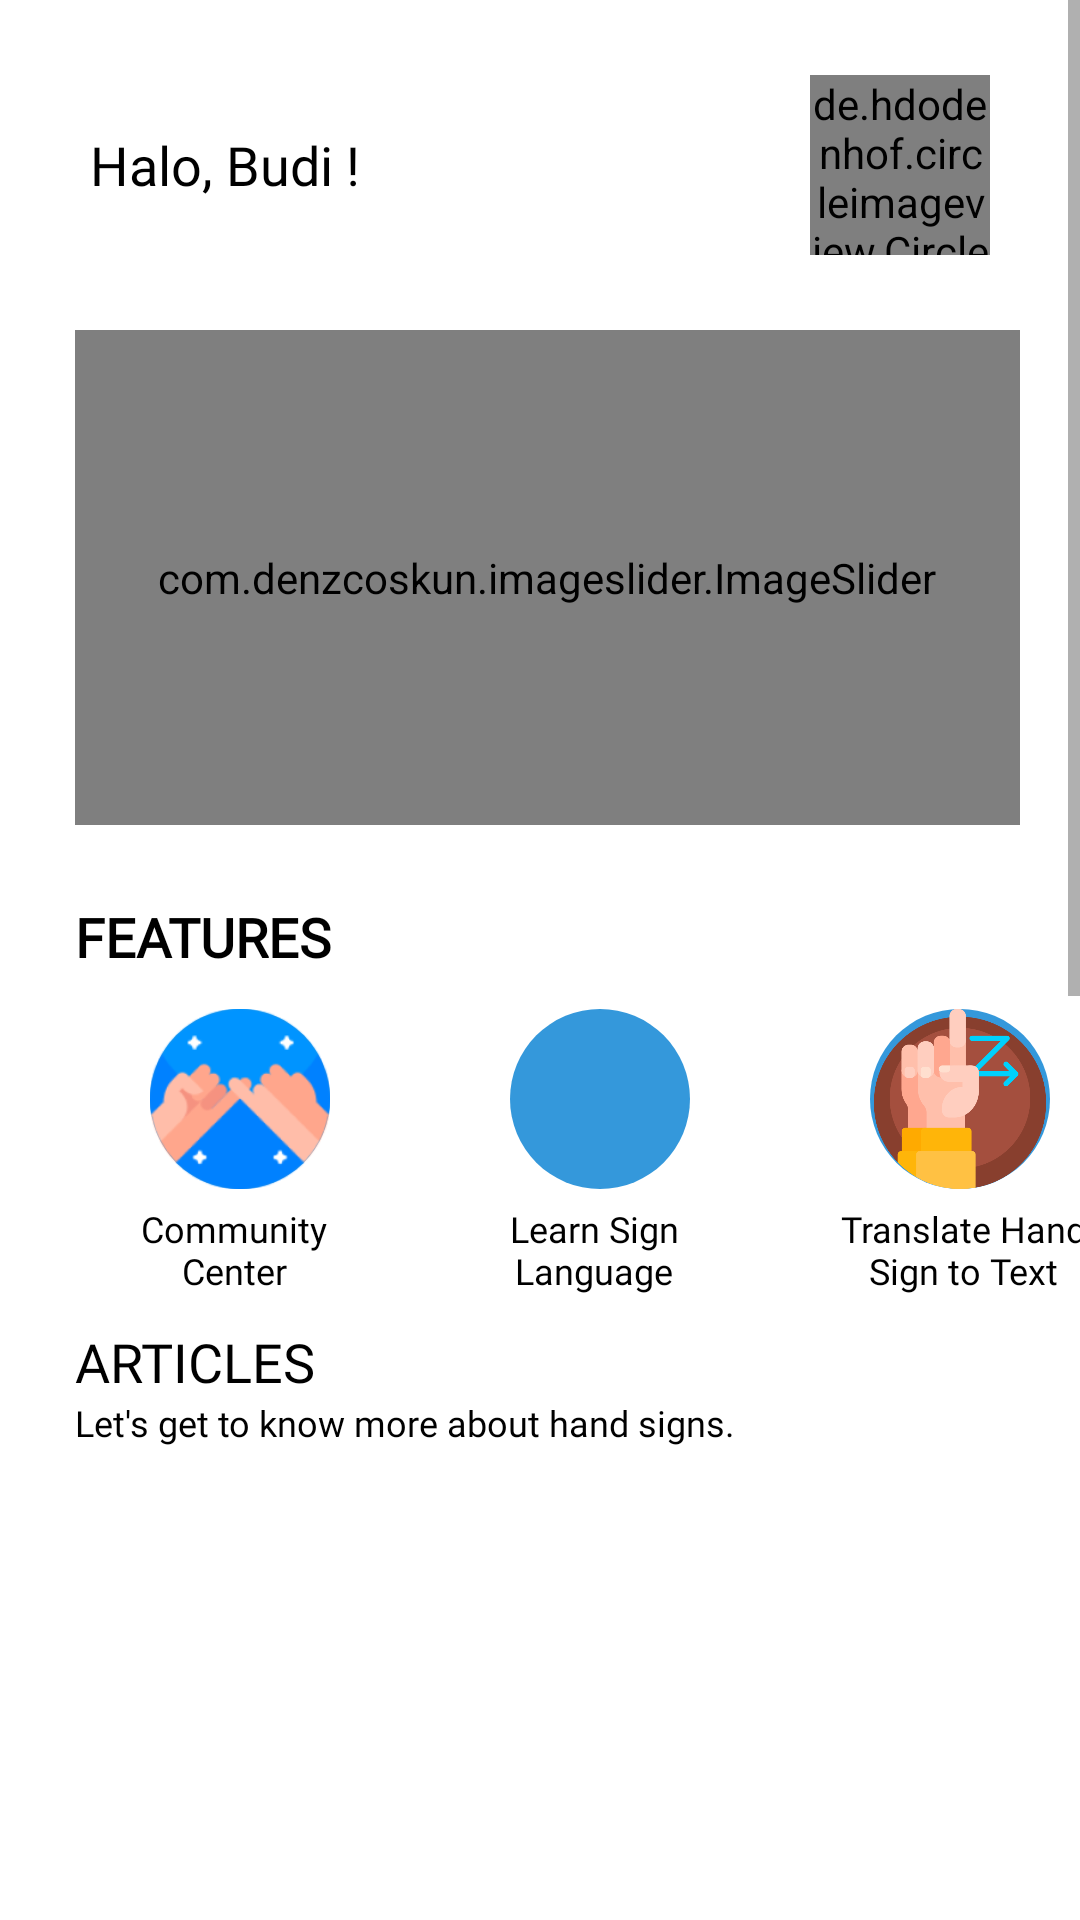

Point at icon controls on the screen. Image size 1080x1920, points as [x,y].
promise: [240,1099]
